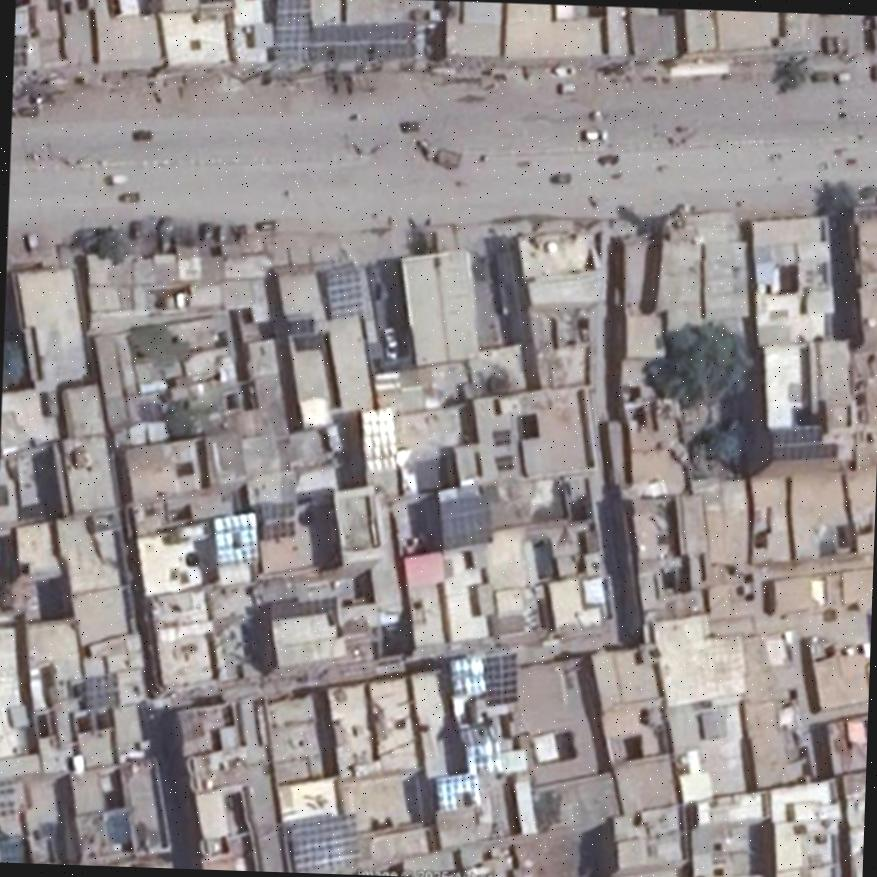Solarpanel: (285, 812, 360, 870), (310, 22, 416, 59), (441, 493, 491, 547), (214, 512, 257, 565), (273, 0, 309, 61), (481, 651, 516, 705), (326, 264, 361, 317), (261, 500, 292, 543), (86, 671, 119, 707), (770, 443, 837, 459), (770, 425, 823, 441)
